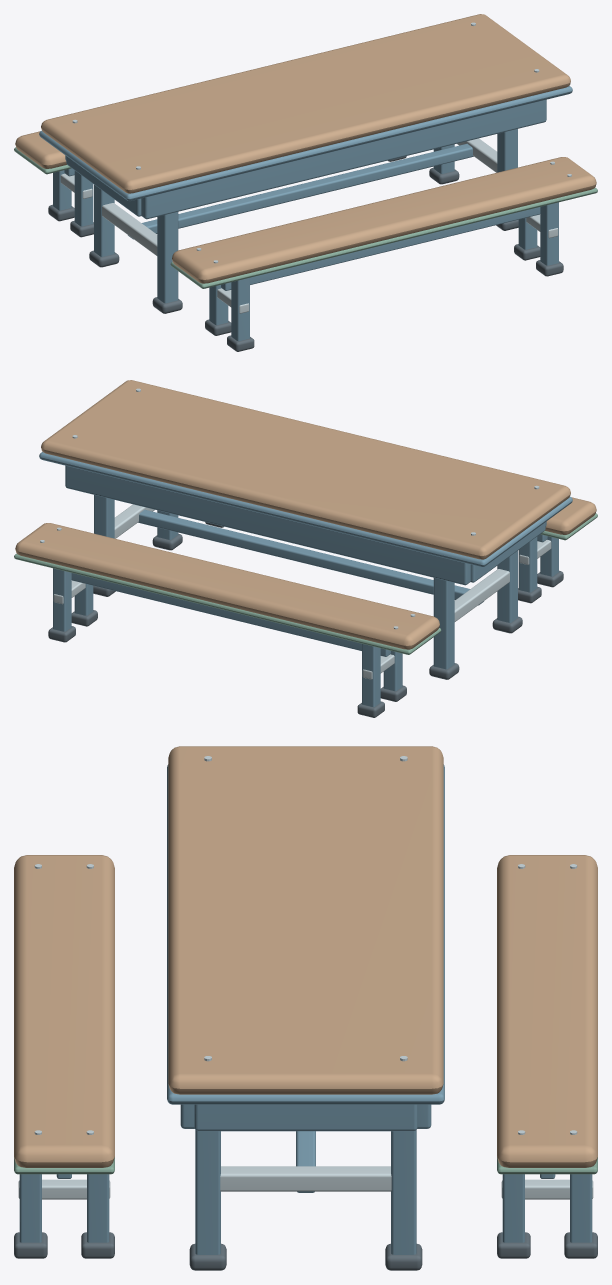
File: canteen_table_set_blendstra.glb
3 views of the same model, one above another, from view 1: azimuth 30°, elevation 25°; view 2: azimuth 150°, elevation 25°; view 3: azimuth 270°, elevation 25° (orthographic). The views are drawn at different scales.
Visible parts, largest first — view 1: table / rounded laminated surface, bench / laminated plank, table / longitudinal supporting apron, table / central longitudinal stretcher, table / dark blue steel edging, bench / underside lengthwise support, bench / lower powdercoated edge, table / square steel leg, table / cross brace, bench / laminated plank.001, table / square steel leg.001, bench / tapered seat leg (+8 smaller); view 2: table / rounded laminated surface, bench / laminated plank.001, table / longitudinal supporting apron.001, table / central longitudinal stretcher, table / dark blue steel edging, bench / underside lengthwise support.001, bench / lower powdercoated edge.001, table / square steel leg.001, table / cross brace, bench / laminated plank, table / square steel leg, bench / tapered seat leg.005 (+8 smaller); view 3: table / rounded laminated surface, bench / laminated plank, bench / laminated plank.001, table / transverse supporting apron.001, table / cross brace.001, table / dark blue steel edging, table / square steel leg.002, table / square steel leg.003, bench / tapered seat leg.002, bench / tapered seat leg.003, bench / tapered seat leg.006, bench / tapered seat leg.007 (+9 smaller).
Part boxes in pixels (bbox=[...]): table / rounded laminated surface: bbox=[41, 14, 570, 193]; bench / laminated plank: bbox=[172, 157, 596, 283]; table / longitudinal supporting apron: bbox=[141, 99, 546, 219]; table / central longitudinal stretcher: bbox=[128, 143, 473, 239]; table / dark blue steel edging: bbox=[39, 86, 572, 200]; bench / underside lengthwise support: bbox=[221, 207, 540, 290]; bench / lower powdercoated edge: bbox=[170, 187, 597, 288]; table / square steel leg: bbox=[157, 212, 178, 303]; table / cross brace: bbox=[102, 203, 157, 255]; bench / laminated plank.001: bbox=[15, 131, 66, 168]; table / square steel leg.001: bbox=[94, 185, 114, 256]; bench / tapered seat leg: bbox=[231, 278, 249, 341]; table / rounded laminated surface: bbox=[41, 380, 570, 559]; bench / laminated plank.001: bbox=[15, 523, 439, 649]; table / longitudinal supporting apron.001: bbox=[65, 465, 470, 585]; table / central longitudinal stretcher: bbox=[138, 509, 483, 605]; table / dark blue steel edging: bbox=[39, 452, 572, 566]; bench / underside lengthwise support.001: bbox=[71, 573, 390, 656]; bench / lower powdercoated edge.001: bbox=[14, 553, 441, 654]; table / square steel leg.001: bbox=[433, 578, 454, 669]; table / cross brace: bbox=[454, 569, 509, 621]; bench / laminated plank: bbox=[545, 497, 596, 534]; table / square steel leg: bbox=[497, 551, 517, 622]; bench / tapered seat leg.005: bbox=[362, 644, 380, 707]; table / rounded laminated surface: bbox=[168, 746, 443, 1094]; bench / laminated plank: bbox=[14, 855, 114, 1167]; bench / laminated plank.001: bbox=[497, 855, 597, 1167]; table / transverse supporting apron.001: bbox=[194, 1104, 417, 1131]; table / cross brace.001: bbox=[220, 1166, 391, 1191]; table / dark blue steel edging: bbox=[167, 764, 444, 1104]; table / square steel leg.002: bbox=[195, 1130, 220, 1254]; table / square steel leg.003: bbox=[391, 1130, 416, 1254]; bench / tapered seat leg.002: bbox=[19, 1174, 41, 1242]; bench / tapered seat leg.003: bbox=[87, 1174, 109, 1242]; bench / tapered seat leg.006: bbox=[502, 1174, 524, 1242]; bench / tapered seat leg.007: bbox=[570, 1174, 592, 1242].
Bounding box in the file's own units: 2.6 × 0.8275 × 1.91.
